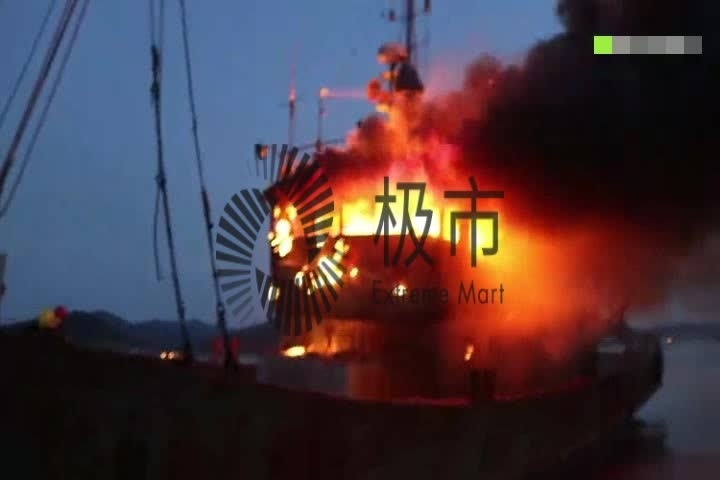fire: (268, 147, 520, 298)
